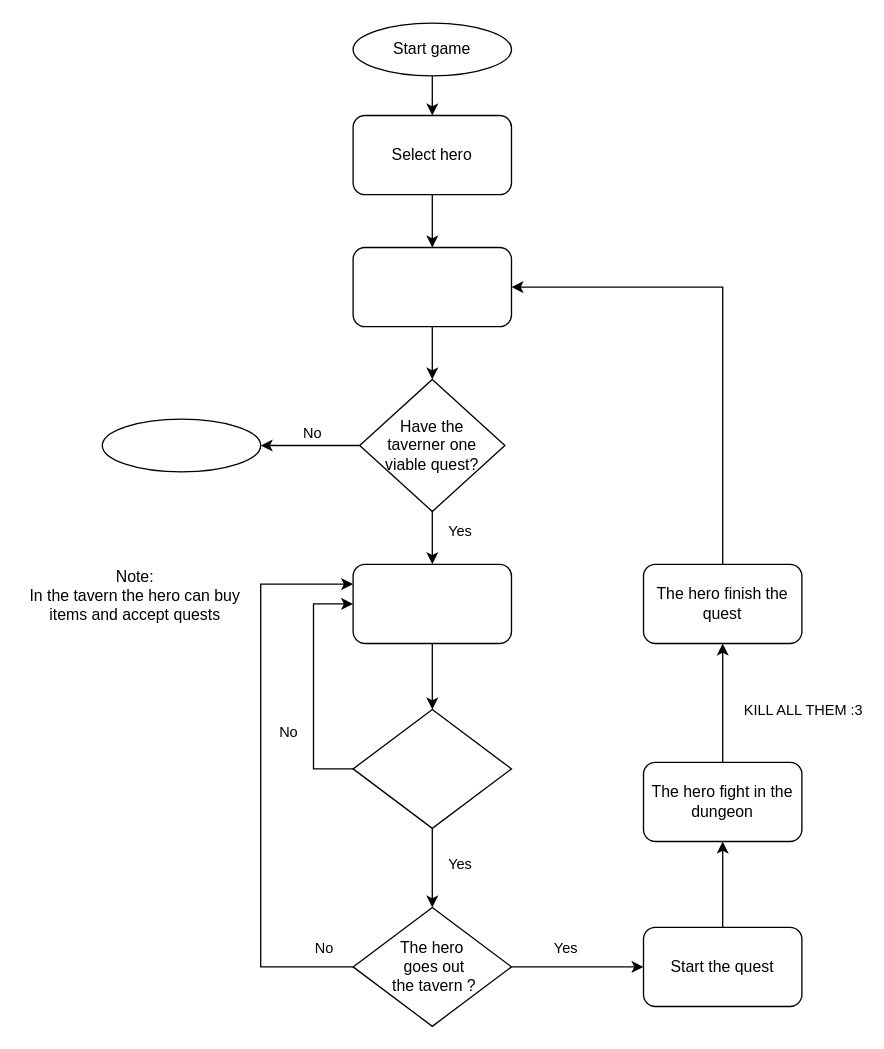
This 884x1049 diagram has some shape labels left out. The box of each missing label's shape, as (x1, y1, x2, y2) in pixels:
End game: (101, 418, 261, 472)
Had the hero accepted one quest ?: (352, 708, 512, 828)
Tell history: (352, 246, 512, 327)
The hero rest in the tavern: (352, 563, 512, 644)
